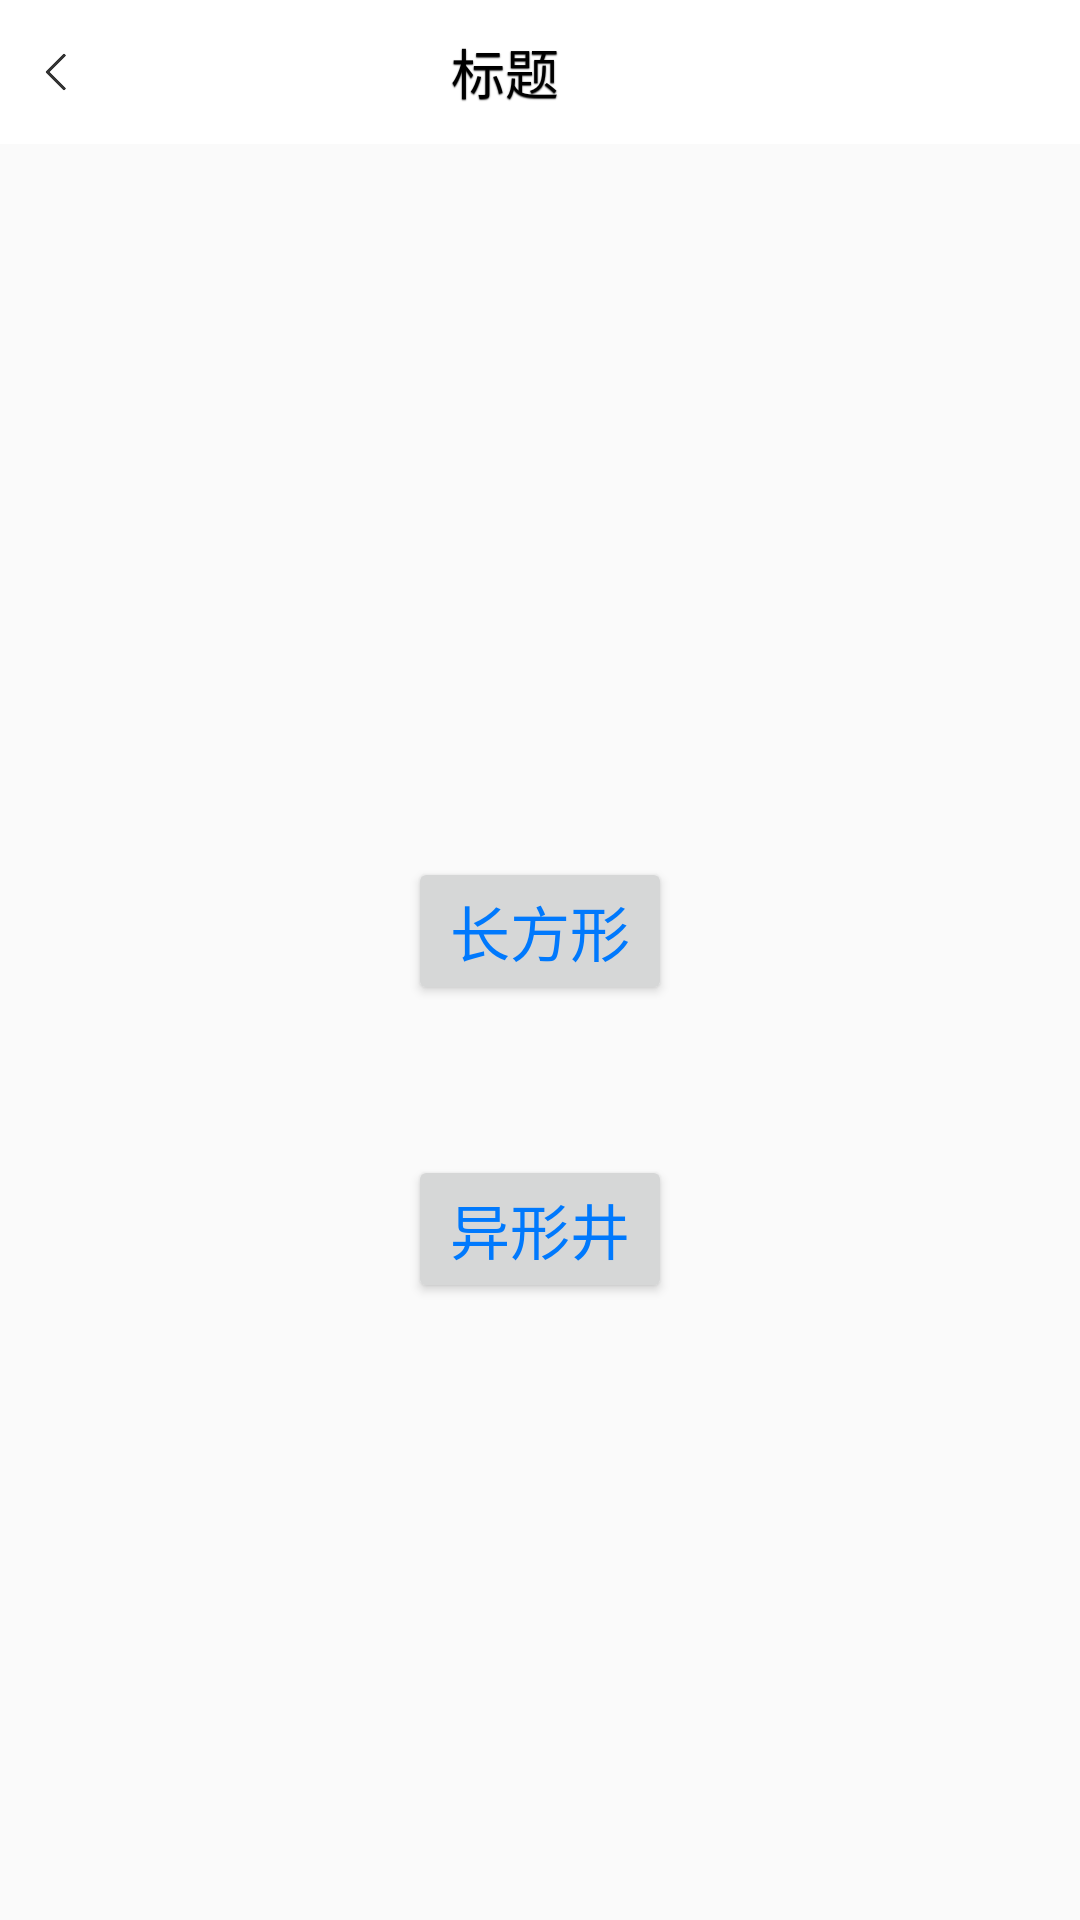

Point at icon controls on the screen. Image size 1080 × 1920, points as [x,y].
leftjt: [56,72]
